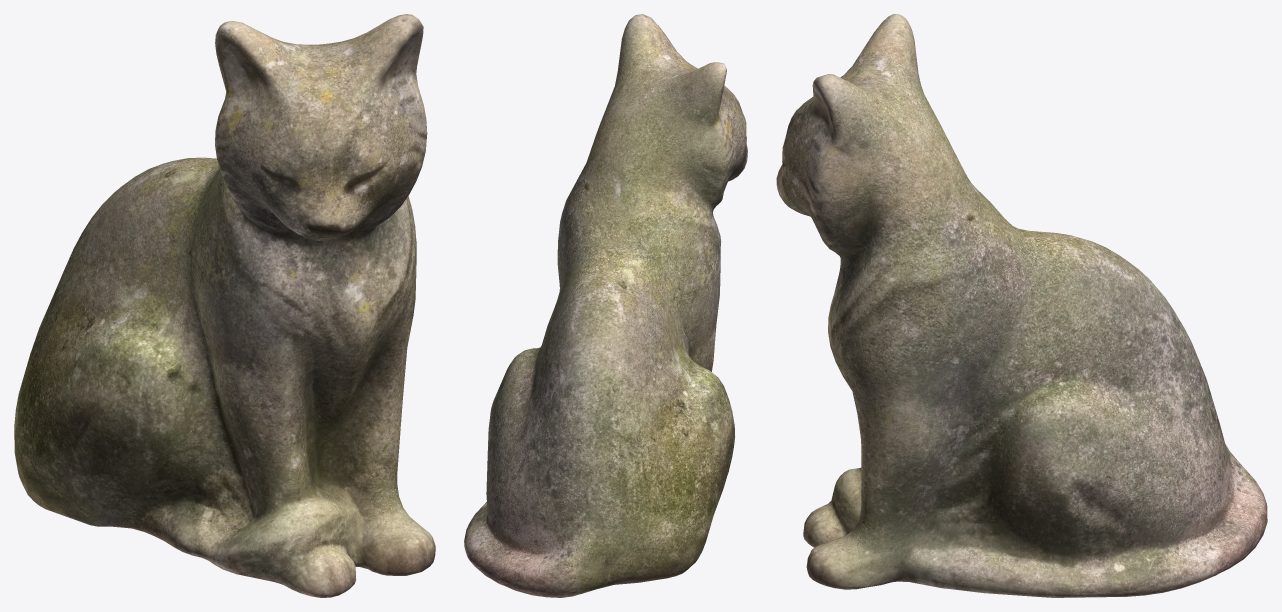
File: concrete_cat_statue.glb
The picture shows the model from 3 angles, left to right: view 1: azimuth 30°, elevation 25°; view 2: azimuth 150°, elevation 25°; view 3: azimuth 270°, elevation 25°; orthographic projection. The views are drawn at different scales.
Visible parts, largest first — view 1: concrete_cat_statue; view 2: concrete_cat_statue; view 3: concrete_cat_statue.
Boxes of the visible parts, x1,y1,x2,y2 form: concrete_cat_statue: (14, 14, 435, 597); concrete_cat_statue: (464, 14, 747, 597); concrete_cat_statue: (776, 14, 1267, 597).
Bounding box in the file's own units: 0.153 × 0.283 × 0.25.
Materials: 1 (1 with a texture image).
